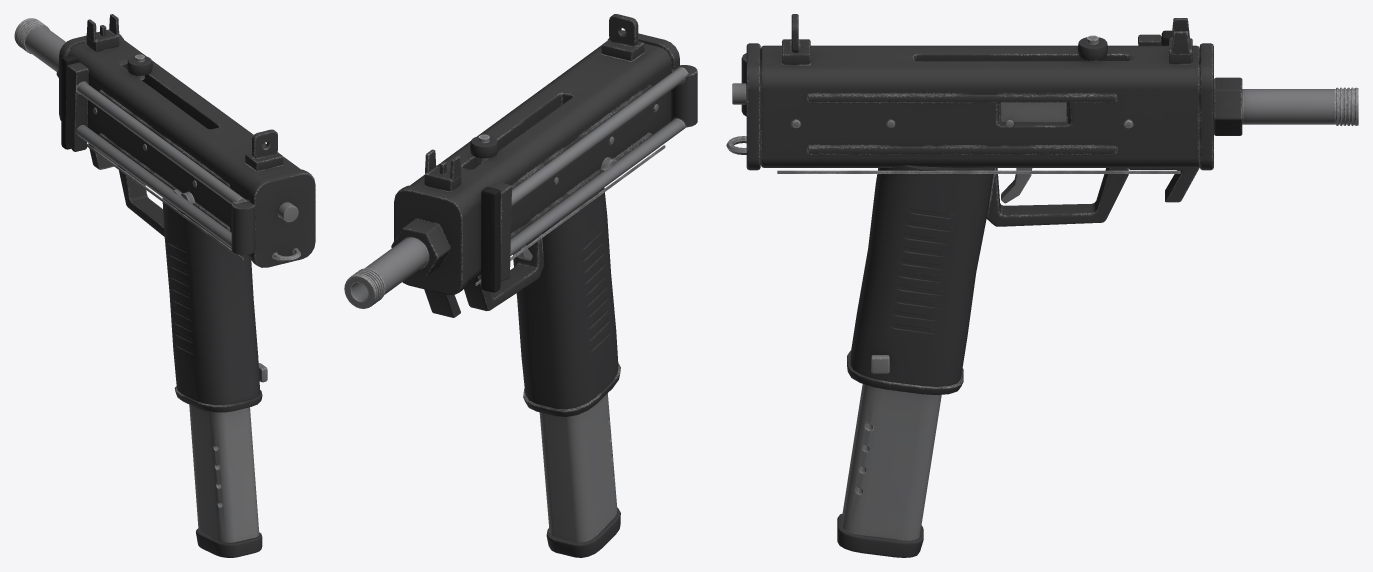
The model's file is yeying.glb.
The picture shows the model from 3 angles, left to right: view 1: azimuth 30°, elevation 25°; view 2: azimuth 150°, elevation 25°; view 3: azimuth 270°, elevation 25°; orthographic projection. The views are drawn at different scales.
Parts seen in each view (by area): view 1: body, magazine, stock; view 2: body, stock, magazine; view 3: body, magazine, bolt.
Part boxes in pixels (<box>): body: <box>14,14,315,412</box>; magazine: <box>189,404,262,557</box>; stock: <box>61,55,254,255</box>; body: <box>344,14,679,416</box>; stock: <box>481,65,697,292</box>; magazine: <box>539,393,620,557</box>; body: <box>726,14,1358,394</box>; magazine: <box>837,384,941,557</box>; bolt: <box>1000,102,1066,122</box>.
Bounding box in the file's own units: 0.0485 × 0.2465 × 0.2665.
Materials: 1 (1 with a texture image).
